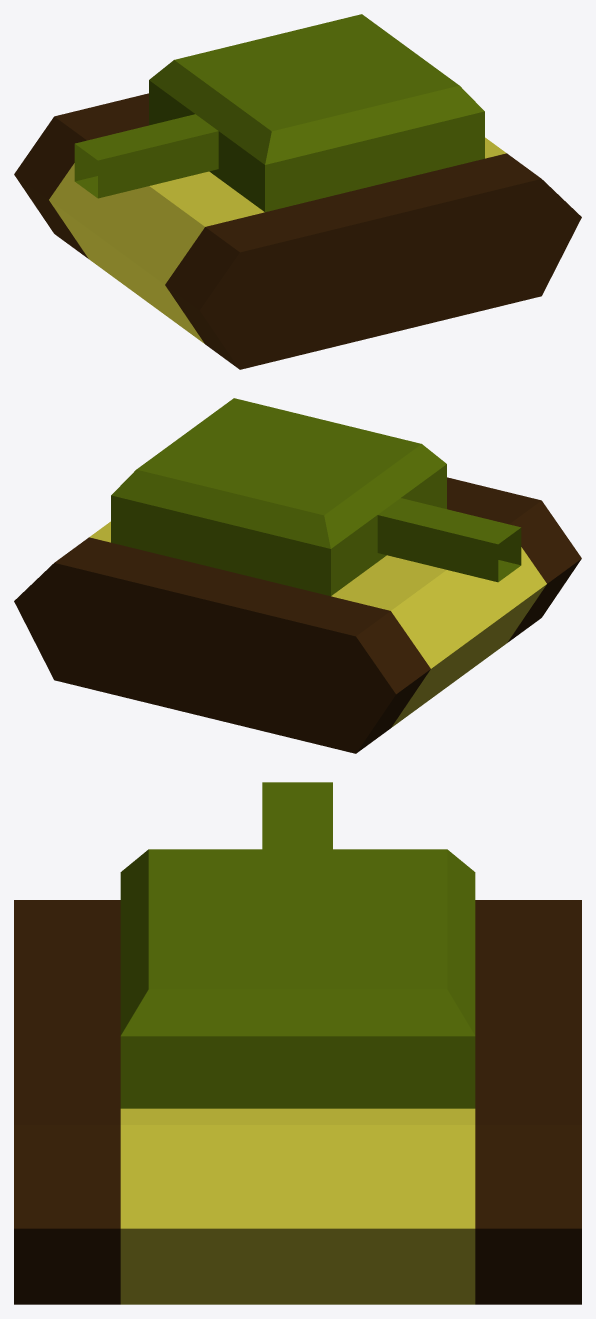
The model's file is tank_2_3.glb.
The picture shows the model from 3 angles, top to bottom: view 1: azimuth 30°, elevation 25°; view 2: azimuth 150°, elevation 25°; view 3: azimuth 270°, elevation 25°; orthographic projection. The views are drawn at different scales.
Visible parts, largest first — view 1: tank_yellow_3; view 2: tank_yellow_3; view 3: tank_yellow_3.
Boxes of the visible parts, box(x1,y1,x2,y2) form: tank_yellow_3: box(14, 14, 581, 369); tank_yellow_3: box(14, 398, 581, 753); tank_yellow_3: box(14, 782, 581, 1304).
Bounding box in the file's own units: 2 × 0.8918 × 1.6.
Materials: 1 (1 with a texture image).
